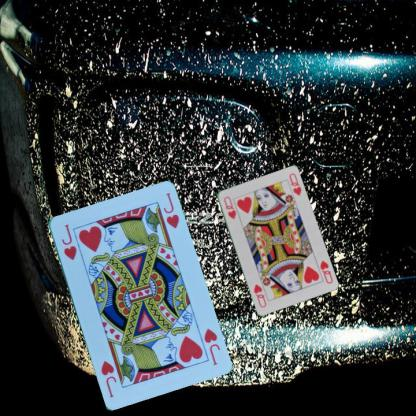Jh: (58, 221, 78, 261), (201, 326, 221, 366)
Qh: (317, 258, 334, 285), (221, 194, 237, 220)
